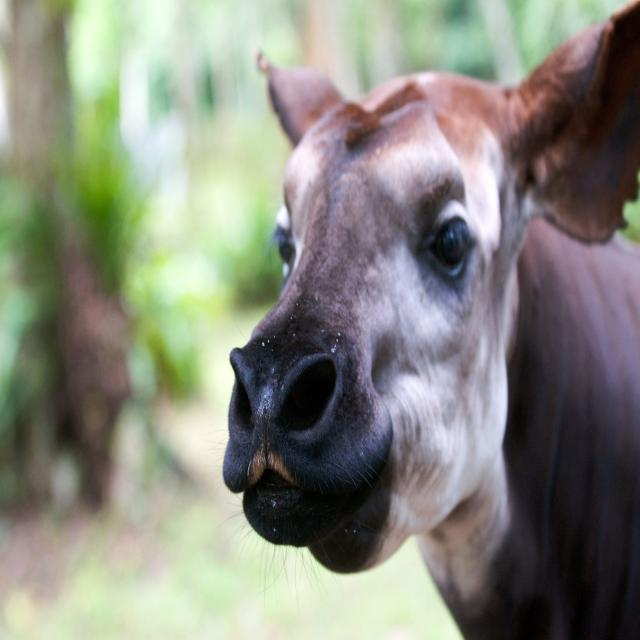Okapi: (224, 0, 640, 640)
